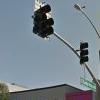traffic lights: (30, 3, 55, 41), (79, 40, 90, 66)
